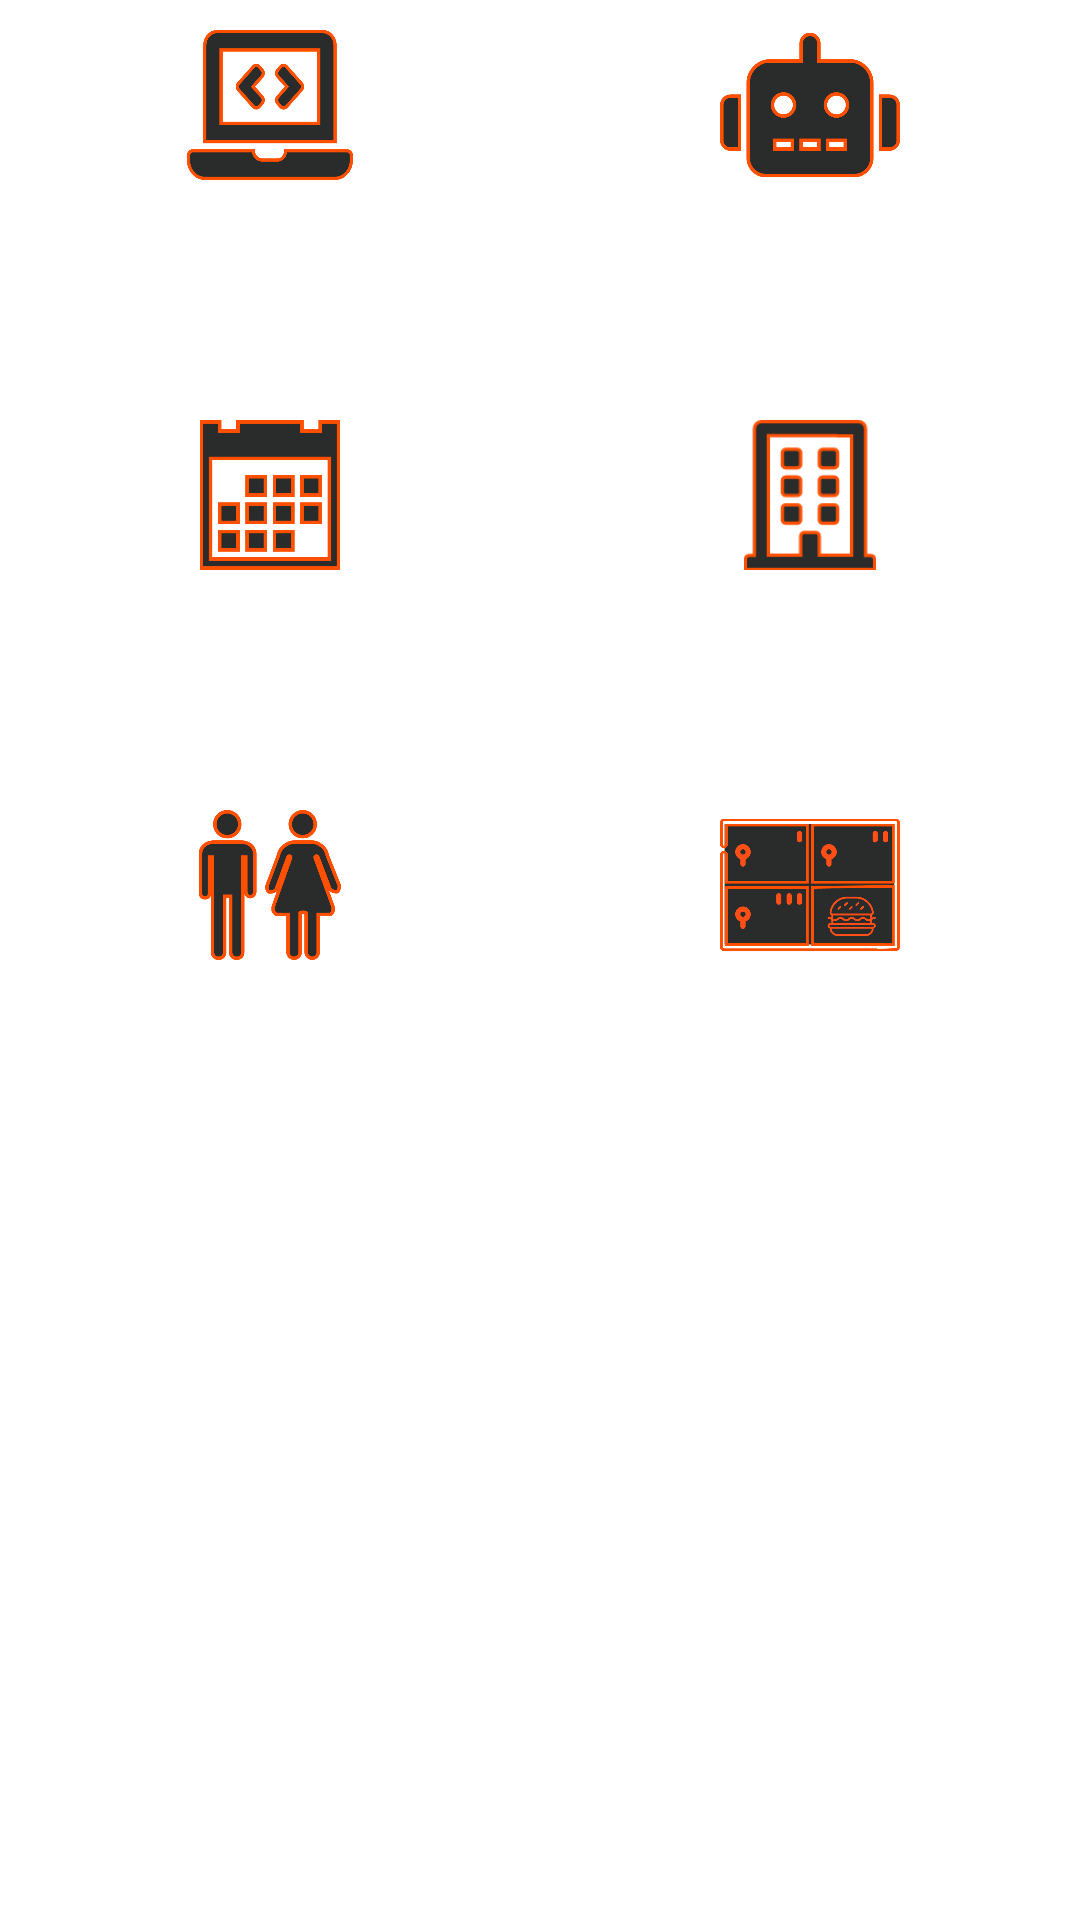

Named icons in this screenshot (1080*1920) and their bounding boxes, (x1, y1, x2, y2):
metro calendar: (200, 420, 340, 570)
toilet: (199, 810, 341, 960)
